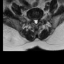CCS_normal: (35, 17, 37, 25)
LFS_severe_stenosis: (38, 16, 40, 22)
LLS_normal: (37, 17, 38, 23)
RFS_severe_stenosis: (31, 16, 33, 22)
RLS_normal: (33, 17, 35, 23)
